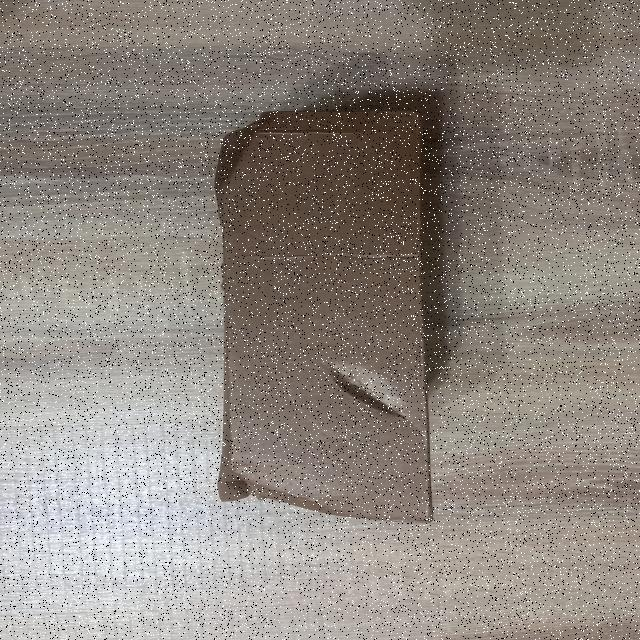damaged: (212, 104, 452, 534), (214, 441, 382, 525), (203, 102, 296, 208), (316, 349, 419, 437)
